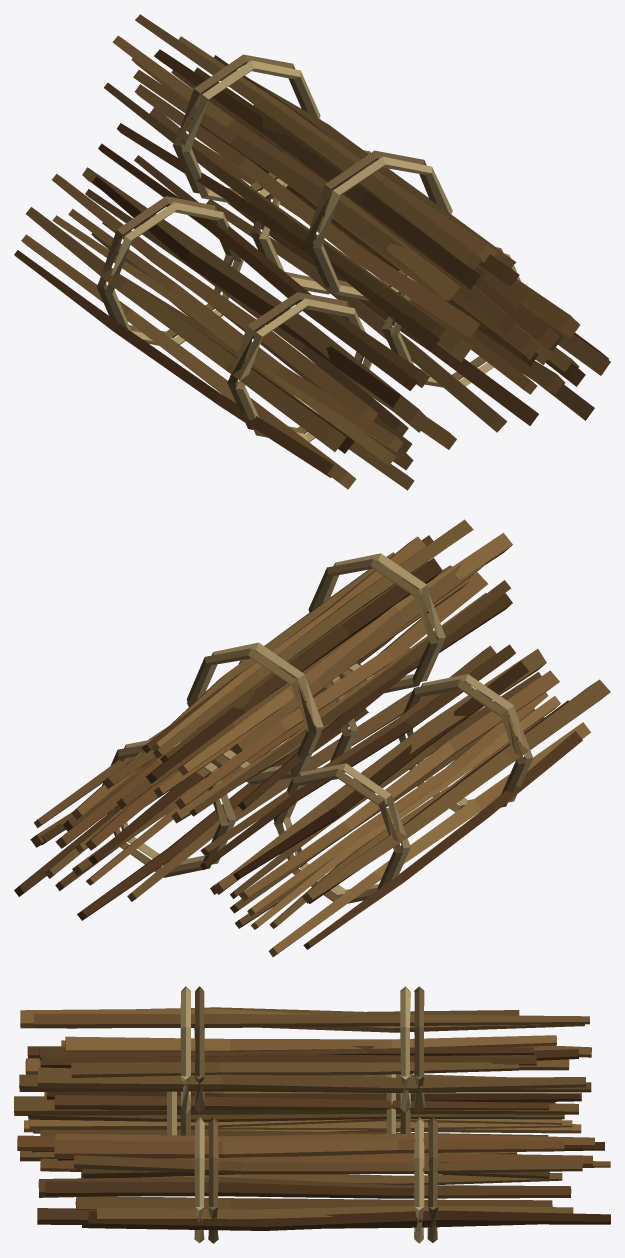
Rendered from smokehouse_rametti.glb.
3 views of the same model, one above another, from view 1: azimuth 30°, elevation 25°; view 2: azimuth 150°, elevation 25°; view 3: azimuth 270°, elevation 25° (orthographic). The views are drawn at different scales.
Visible parts, largest first — view 1: smokehouse_rametti; view 2: smokehouse_rametti; view 3: smokehouse_rametti.
Boxes of the visible parts, x1,y1,x2,y2 form: smokehouse_rametti: (14, 14, 610, 490); smokehouse_rametti: (14, 519, 610, 956); smokehouse_rametti: (14, 986, 610, 1243).
Bounding box in the file's own units: 1.09 × 0.8788 × 2.17.
